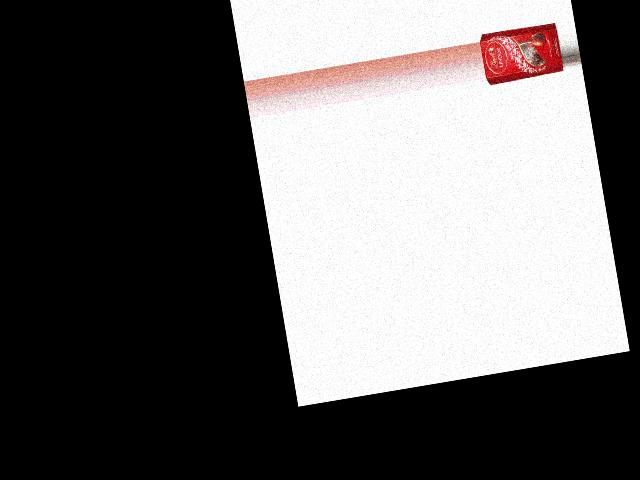chocolate: (478, 18, 565, 86)
